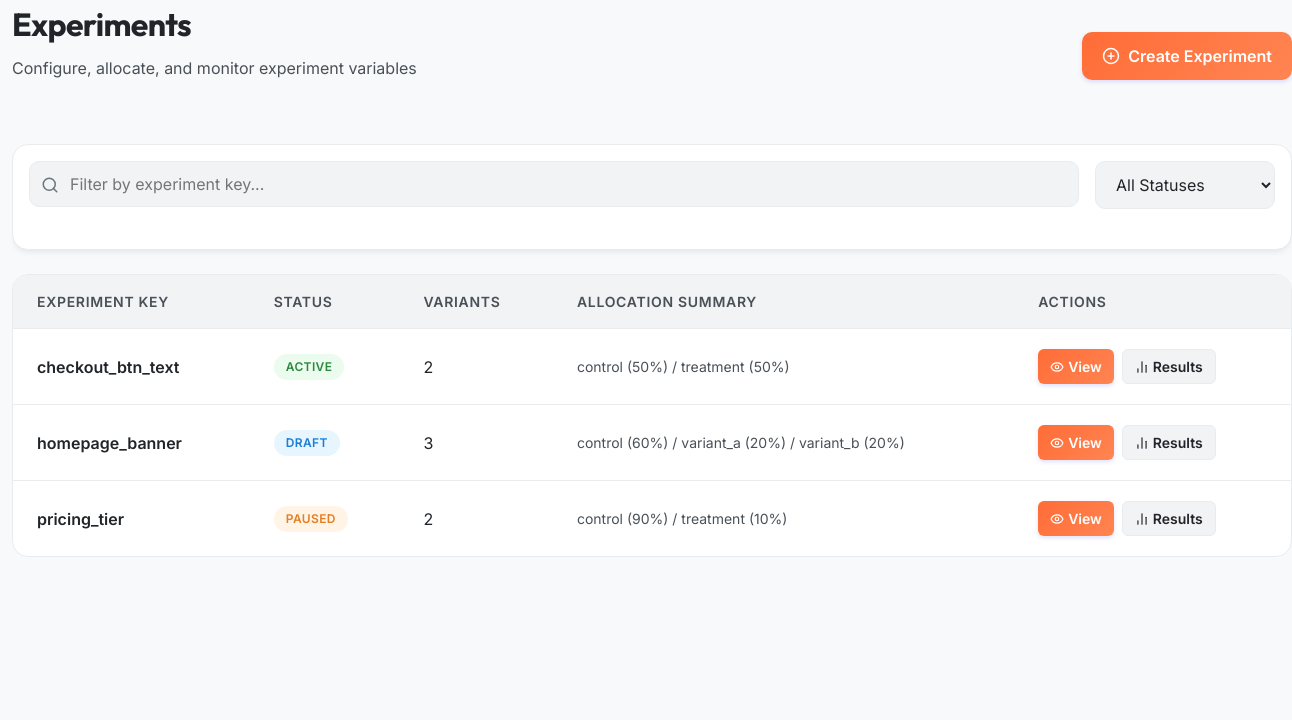
Experiment List Page › should filter client-side by status dropdown
expect the table with test id "experiments-table" is shown: met, box top-left (13, 275), bottom-right (1291, 556)
Step 1. Select "Paused" in the dropdown with test id "status-select" → (1185, 185), box top-left (1095, 161), bottom-right (1275, 209)
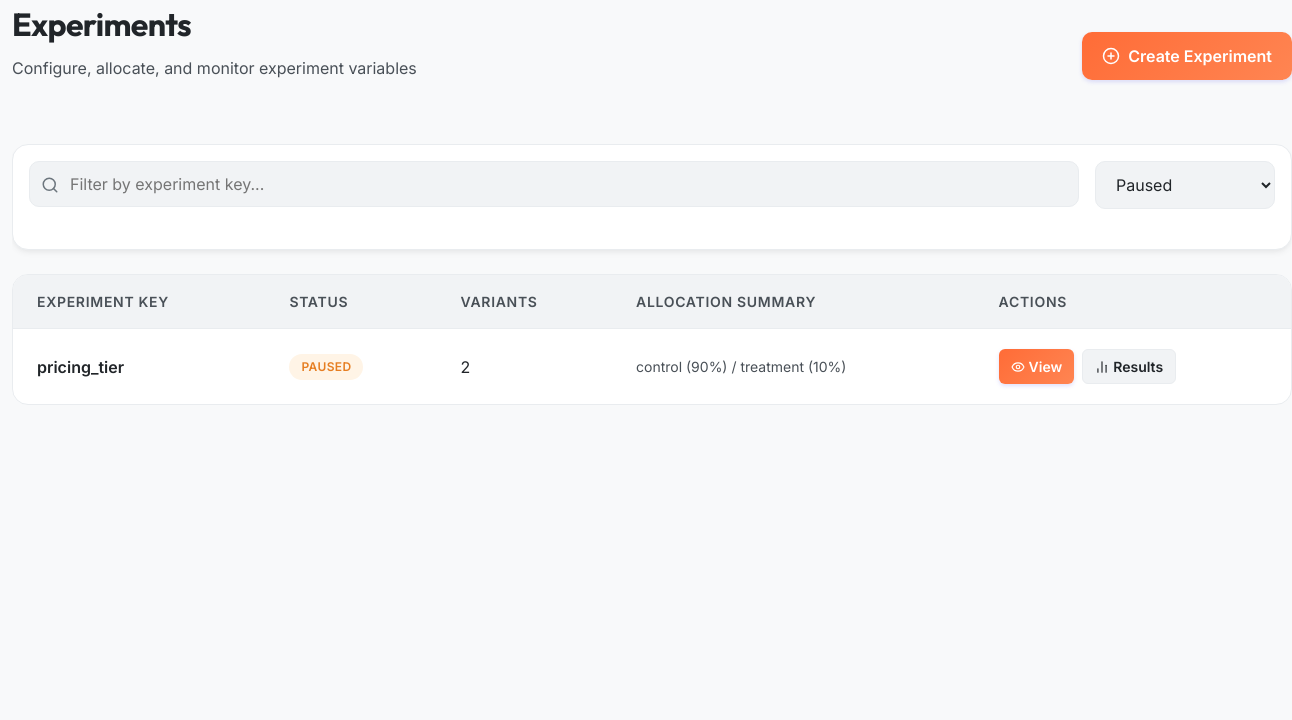
expect the text "pricing_tier" is shown: met, box top-left (13, 328), bottom-right (265, 404)
expect the text "checkout_btn_text" is gone: met
expect the text "homepage_banner" is gone: met
